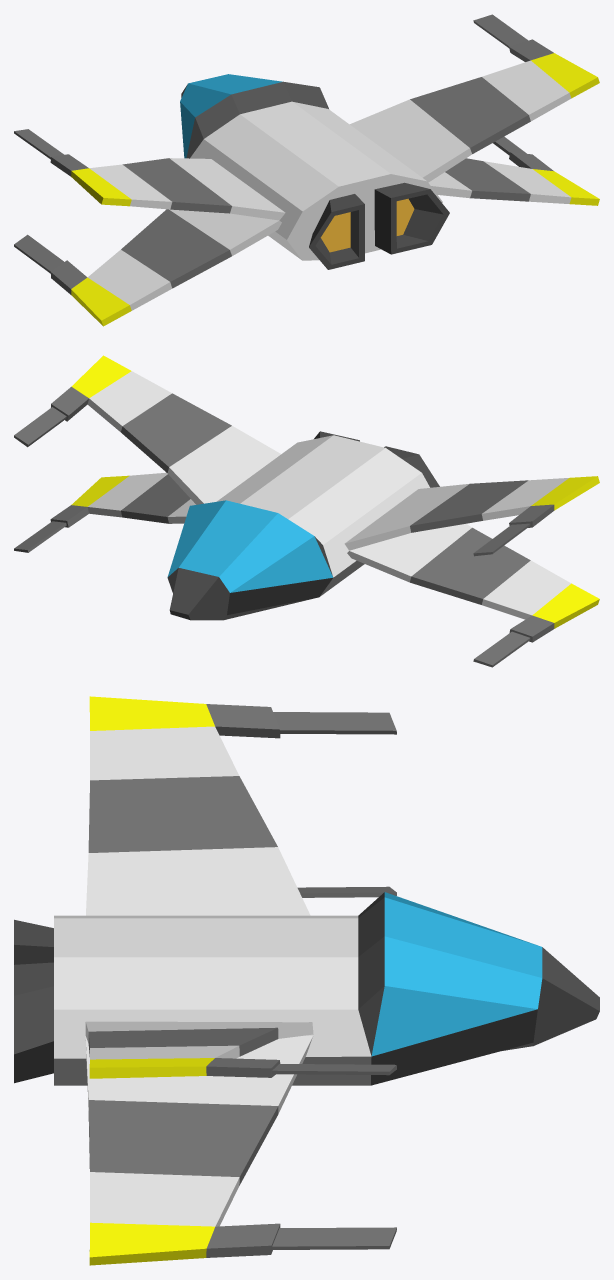
The model's file is SpaceShip(XWings).fbx.
3 renders of one model, top to bottom at view 1: azimuth 30°, elevation 25°; view 2: azimuth 150°, elevation 25°; view 3: azimuth 270°, elevation 25°, orthographic. The views are drawn at different scales.
Visible parts, largest first — view 1: Body, LWing, RWing; view 2: Body, LWing, RWing; view 3: Body, RWing, LWing.
Boxes of the visible parts, box(x1,y1,x2,y2) form: Body: box(180, 74, 449, 269); LWing: box(14, 129, 285, 326); RWing: box(350, 14, 599, 205); Body: box(167, 431, 439, 620); LWing: box(344, 476, 599, 667); RWing: box(14, 355, 280, 552); Body: box(14, 892, 599, 1085); RWing: box(85, 1021, 396, 1265); LWing: box(86, 696, 396, 915).
Size of the model in its own units: 639 by 158 by 423.
